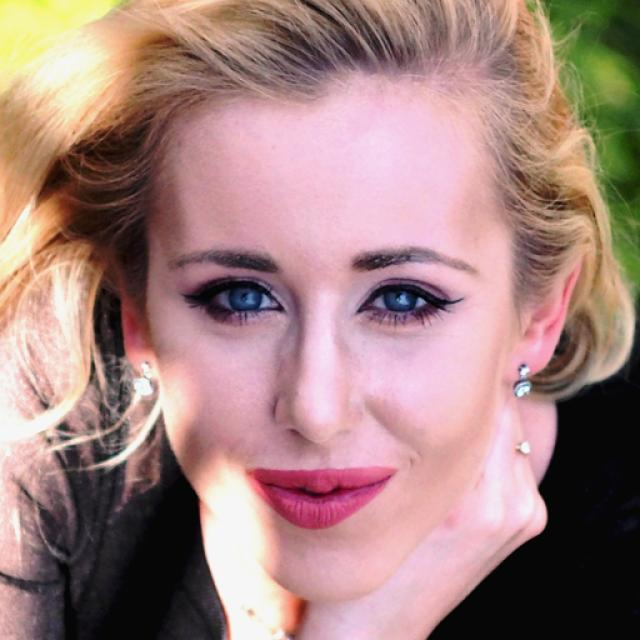happy: (144, 76, 515, 606)
